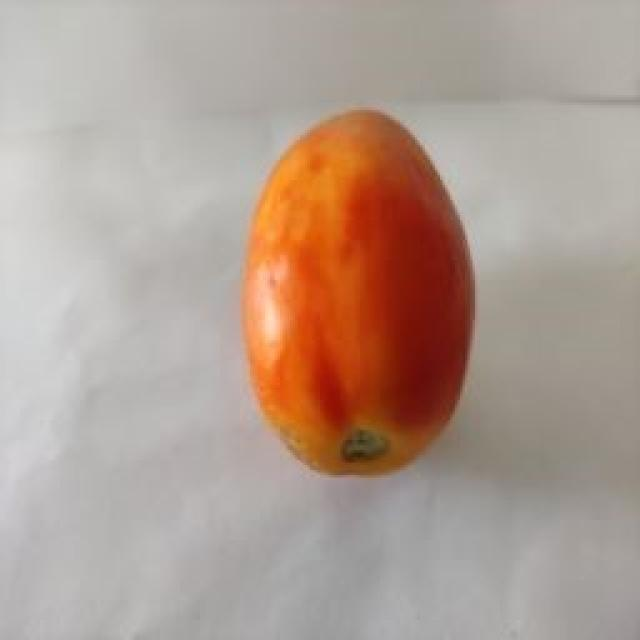Ripe: (238, 107, 482, 486)
